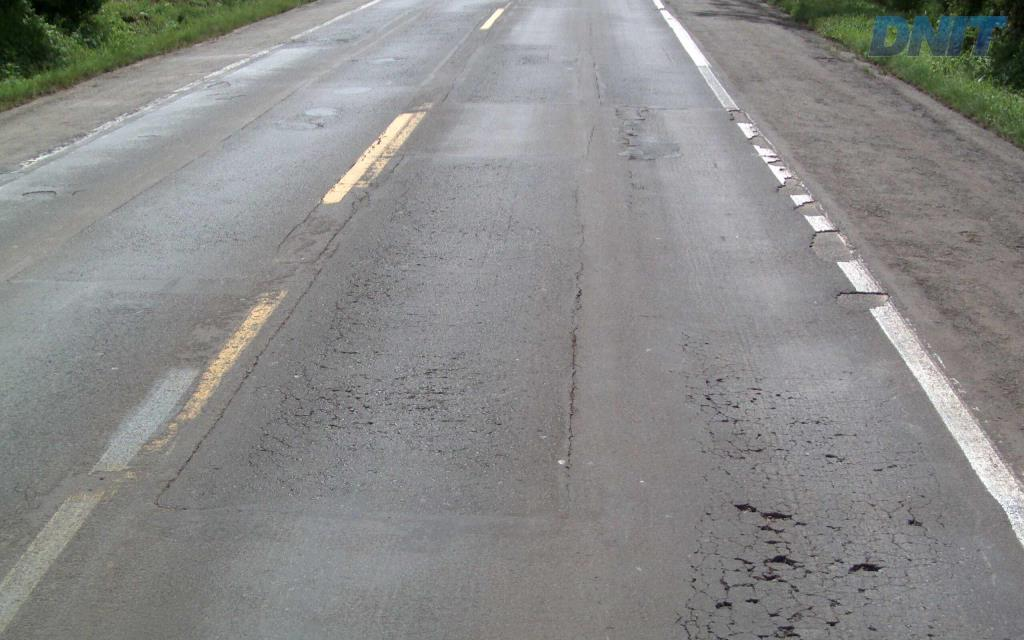crack: (733, 546, 805, 583), (756, 605, 814, 639), (733, 502, 808, 527)
pothole: (727, 497, 796, 518), (836, 287, 868, 319), (810, 231, 836, 266), (844, 561, 894, 576), (761, 552, 802, 568), (773, 622, 805, 638), (750, 571, 784, 583), (752, 522, 785, 534), (710, 597, 734, 608), (904, 517, 927, 527), (762, 537, 786, 545), (820, 618, 837, 627), (742, 597, 762, 604)
